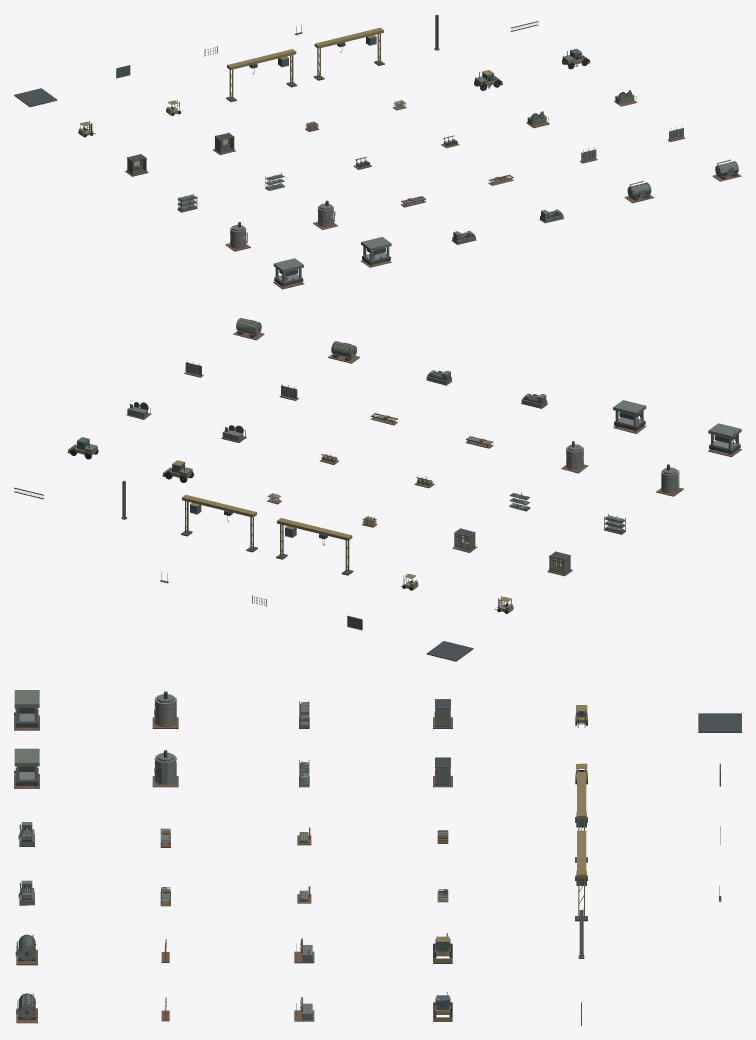
File: site-kit.glb
3 renders of one model, top to bottom at view 1: azimuth 30°, elevation 25°; view 2: azimuth 150°, elevation 25°; view 3: azimuth 270°, elevation 25°, orthographic. The views are drawn at different scales.
Visible parts, largest first — view 1: Kit_gantry, Far_gantry, Kit_pressline, Far_pressline, Kit_roof, Kit_vessel, Far_vessel; view 2: Kit_gantry, Far_gantry, Far_pressline, Kit_pressline, Kit_roof; view 3: Kit_pressline, Far_pressline, Kit_roof, Far_vessel, Kit_vessel, Far_gantry, Kit_dynamo, Kit_gantry, Far_dynamo.
Boxes of the visible parts, x1=… form: Kit_gantry: x1=226, y1=49, x2=297, y2=101; Far_gantry: x1=313, y1=27, x2=384, y2=80; Kit_pressline: x1=273, y1=258, x2=304, y2=289; Far_pressline: x1=361, y1=237, x2=391, y2=267; Kit_roof: x1=14, y1=88, x2=57, y2=107; Kit_vessel: x1=225, y1=222, x2=250, y2=251; Far_vessel: x1=313, y1=200, x2=338, y2=229; Kit_gantry: x1=276, y1=518, x2=353, y2=575; Far_gantry: x1=181, y1=495, x2=257, y2=552; Far_pressline: x1=613, y1=400, x2=646, y2=433; Kit_pressline: x1=708, y1=423, x2=741, y2=457; Kit_roof: x1=426, y1=641, x2=473, y2=661; Kit_pressline: x1=14, y1=690, x2=39, y2=730; Far_pressline: x1=14, y1=748, x2=39, y2=788; Kit_roof: x1=698, y1=713, x2=741, y2=732; Far_vessel: x1=152, y1=750, x2=178, y2=787; Kit_vessel: x1=152, y1=691, x2=178, y2=728; Far_gantry: x1=575, y1=830, x2=587, y2=921; Kit_dynamo: x1=15, y1=934, x2=37, y2=965; Kit_gantry: x1=575, y1=772, x2=587, y2=862; Far_dynamo: x1=16, y1=993, x2=37, y2=1023.
Size of the model in its own units: 170 by 12.28 by 168.
